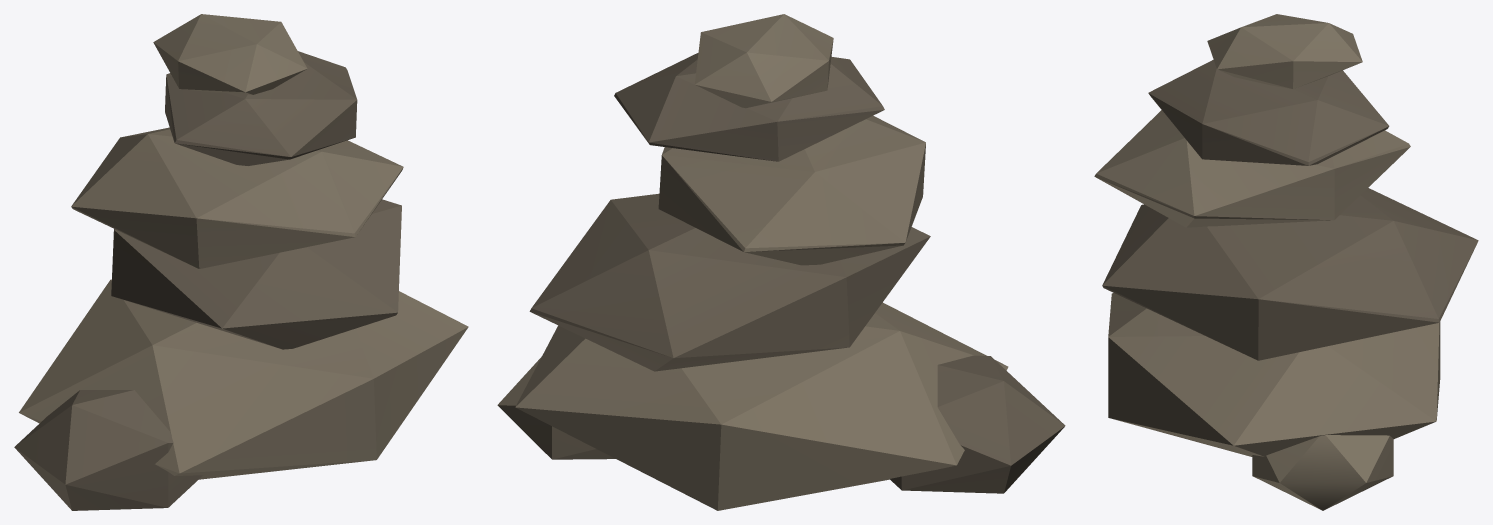
File: prop_mesa_lod2.glb
The picture shows the model from 3 angles, left to right: view 1: azimuth 30°, elevation 25°; view 2: azimuth 150°, elevation 25°; view 3: azimuth 270°, elevation 25°; orthographic projection. The views are drawn at different scales.
Visible parts, largest first — view 1: prop_mesa_lod2; view 2: prop_mesa_lod2; view 3: prop_mesa_lod2.
Boxes of the visible parts, <box> form: prop_mesa_lod2: <box>14,14,468,510</box>; prop_mesa_lod2: <box>497,14,1065,510</box>; prop_mesa_lod2: <box>1094,14,1478,510</box>.
Size of the model in its own units: 4.5 by 4.08 by 3.55.
